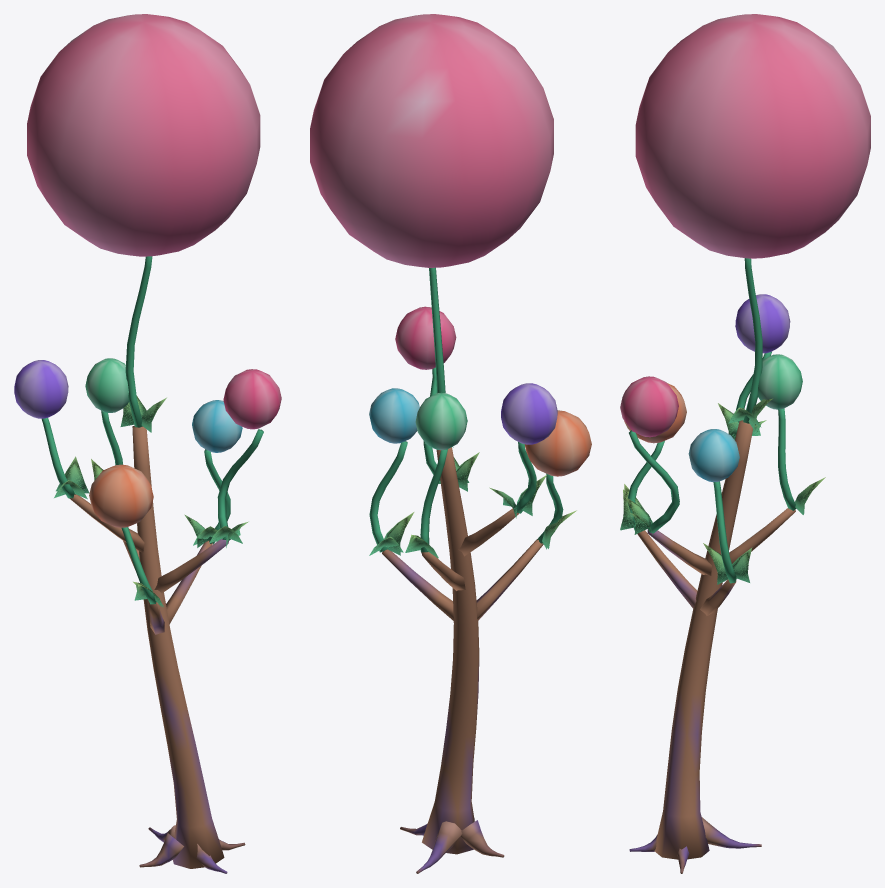
The model's file is verdant_tree_balloon_c.glb.
The picture shows the model from 3 angles, left to right: view 1: azimuth 30°, elevation 25°; view 2: azimuth 150°, elevation 25°; view 3: azimuth 270°, elevation 25°; orthographic projection. The views are drawn at different scales.
Visible parts, largest first — view 1: verdant_tree_balloon_c; view 2: verdant_tree_balloon_c; view 3: verdant_tree_balloon_c.
Part boxes in pixels (x1=…): verdant_tree_balloon_c: x1=14, y1=14, x2=281, y2=873; verdant_tree_balloon_c: x1=310, y1=14, x2=591, y2=873; verdant_tree_balloon_c: x1=620, y1=14, x2=870, y2=873.
Size of the model in its own units: 4.17 by 14.61 by 4.05.
